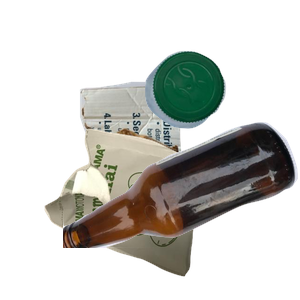cardboard: (77, 79, 251, 227)
glass: (63, 120, 300, 300)
plastic: (142, 48, 300, 169)
trash: (42, 126, 249, 300)
